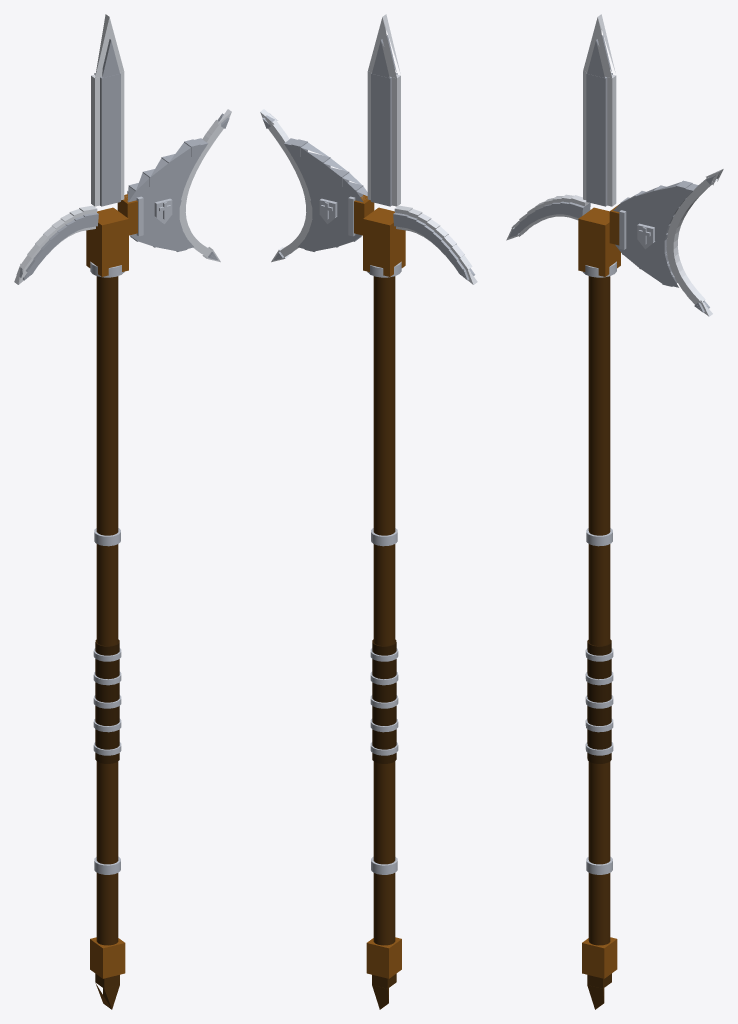
3 renders of one model, left to right at view 1: azimuth 30°, elevation 25°; view 2: azimuth 150°, elevation 25°; view 3: azimuth 330°, elevation 25°, orthographic.
Visible parts, largest first — view 1: bulwark-halberd; view 2: bulwark-halberd; view 3: bulwark-halberd.
Boxes of the visible parts, left/top/right/bottom form: bulwark-halberd: left=14, top=14, right=231, bottom=1009; bulwark-halberd: left=260, top=14, right=477, bottom=1009; bulwark-halberd: left=506, top=14, right=723, bottom=1009.
Size of the model in its own units: 0.4 by 1.77 by 0.0568.
